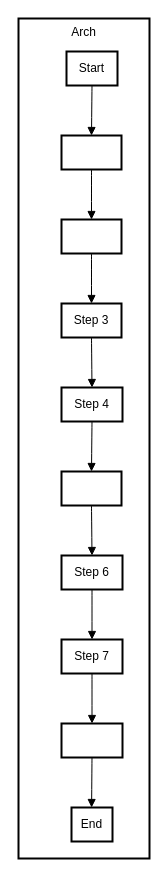
Image size: 167x876. Some labels were removed from this diagram. The shapes that lost their labels are listed below. From the top down, each one's centre as x and y in pixels, then its label:
At (91,152): "Step 1".
At (91,236): "Step 2".
At (91,488): "Step 5".
At (91,740): "Step 8".
